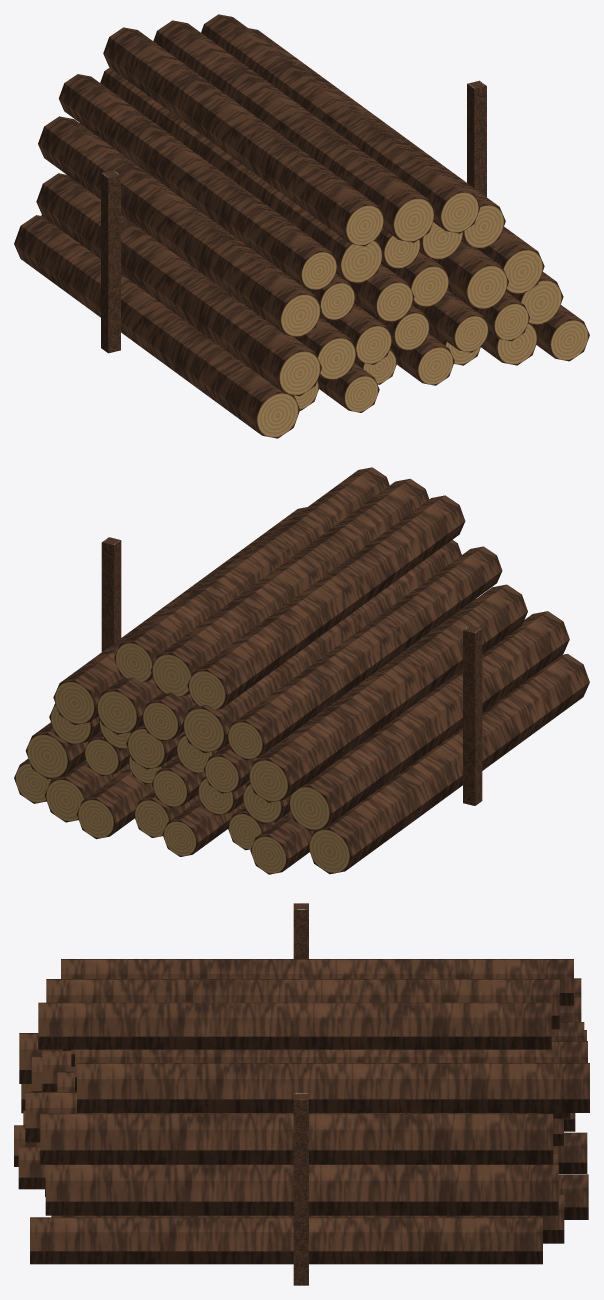
File: SM_woodpile.fbx
The picture shows the model from 3 angles, top to bottom: view 1: azimuth 30°, elevation 25°; view 2: azimuth 150°, elevation 25°; view 3: azimuth 270°, elevation 25°; orthographic projection. The views are drawn at different scales.
Parts seen in each view (by area): view 1: SM_woodpile; view 2: SM_woodpile; view 3: SM_woodpile.
Boxes of the visible parts, <box> form: SM_woodpile: <box>14,14,589,438</box>; SM_woodpile: <box>14,467,589,874</box>; SM_woodpile: <box>14,903,589,1285</box>.
Size of the model in its own units: 3.62 by 1.8 by 4.49.
